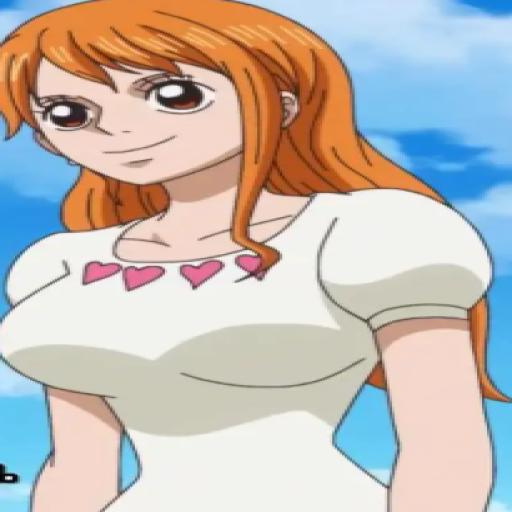Nami: (0, 4, 510, 512)
